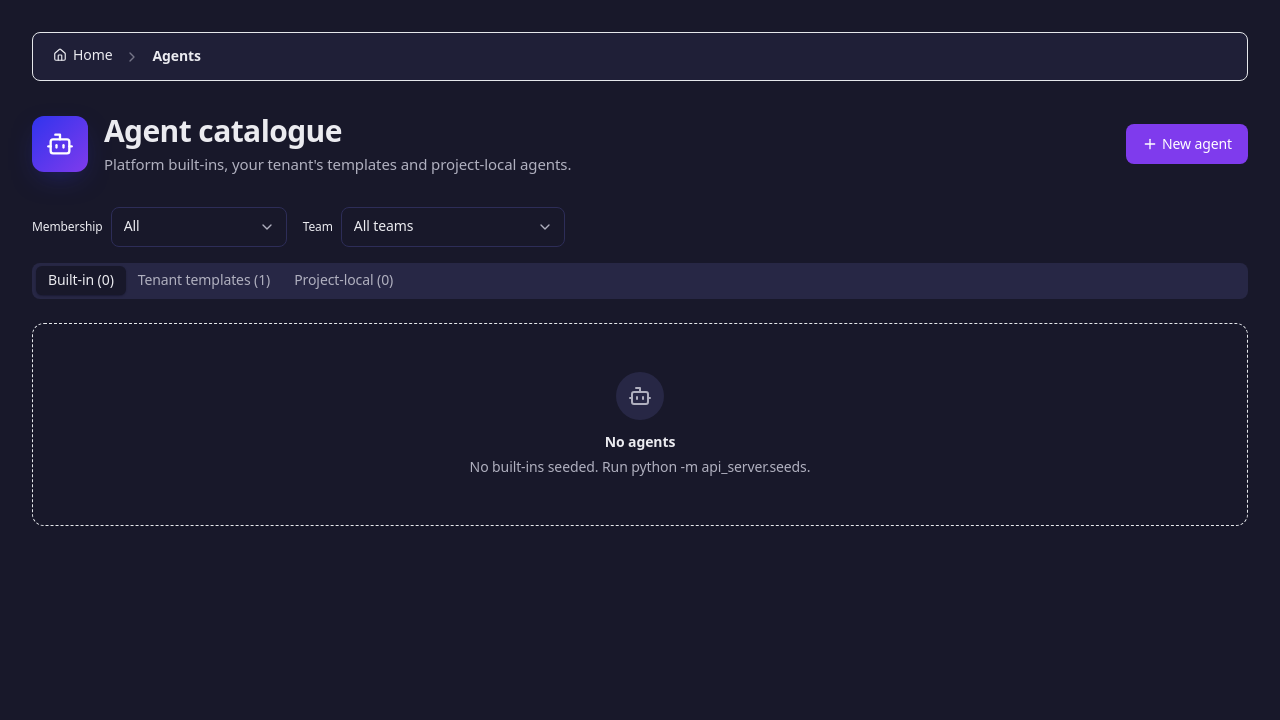
Test case: recorte del prompt en la tarjeta › cae al castellano cuando el prompt EN existe pero está vacío
Click the tab with test id "tab-template" at (204, 281), box [126, 266, 282, 295]
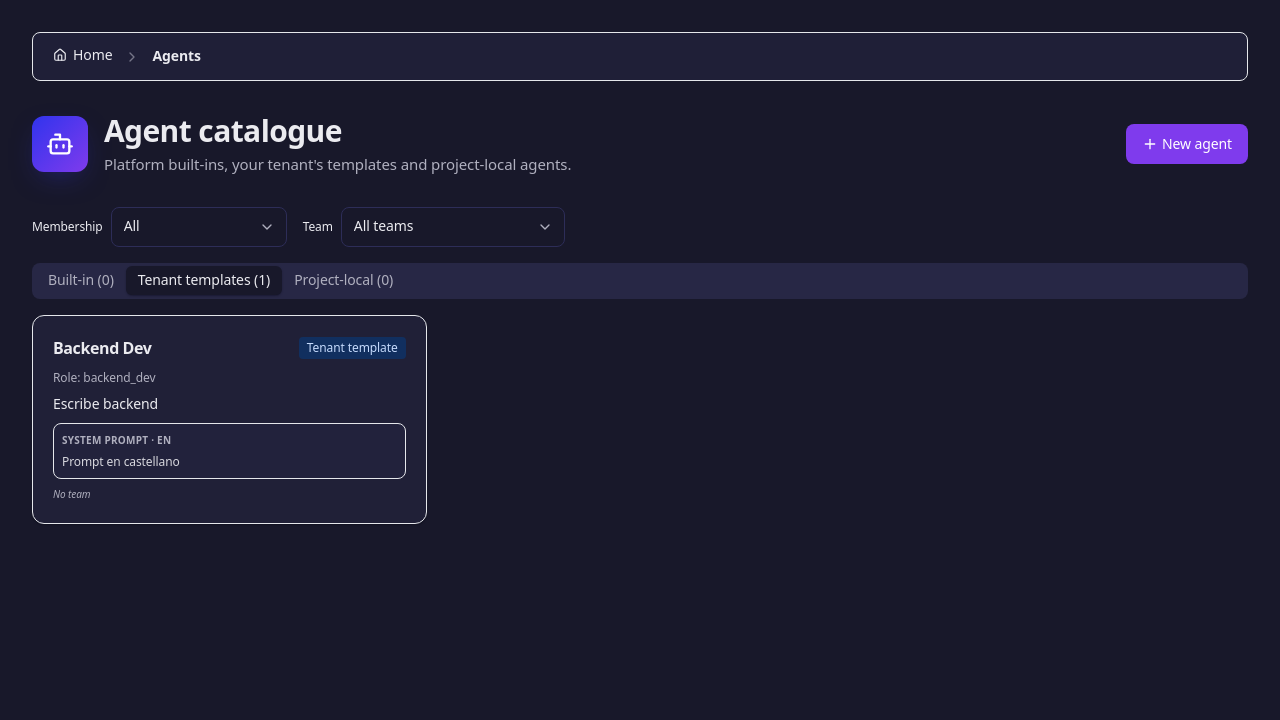
Result: the text "Prompt en castellano" is shown at [62, 453, 180, 470]
